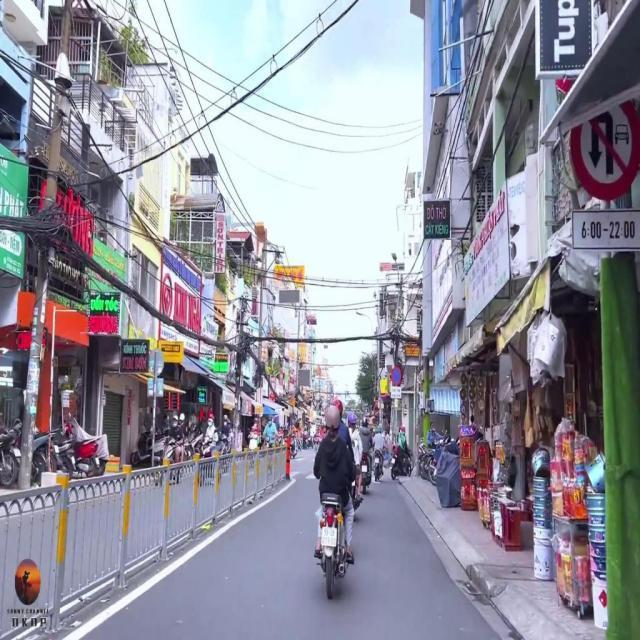124a-cam-quay-dau-xe: (570, 92, 640, 200)
131a-cam-do-xe: (391, 366, 401, 384)
